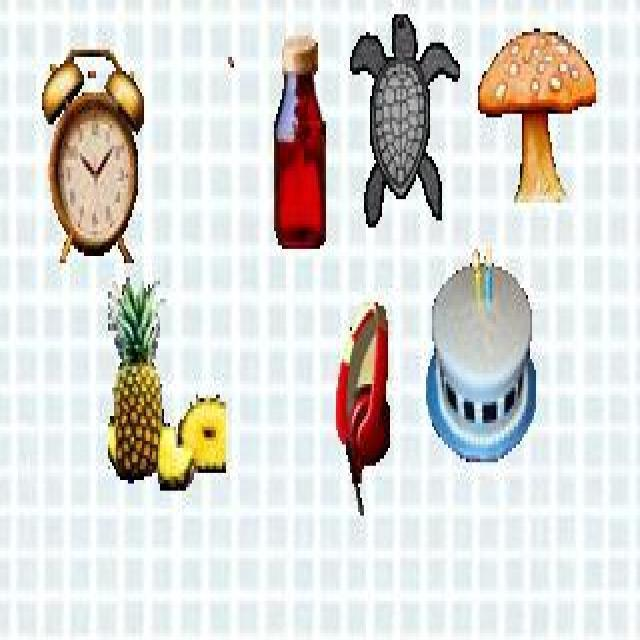Other Objects: (41, 46, 144, 264), (476, 27, 596, 205), (336, 302, 390, 520), (274, 38, 327, 250)
